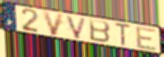2: (20, 8, 41, 34)
B: (88, 18, 112, 44)
E: (136, 26, 159, 52)
T: (114, 21, 133, 47)
V: (41, 10, 65, 37), (65, 14, 88, 40)
